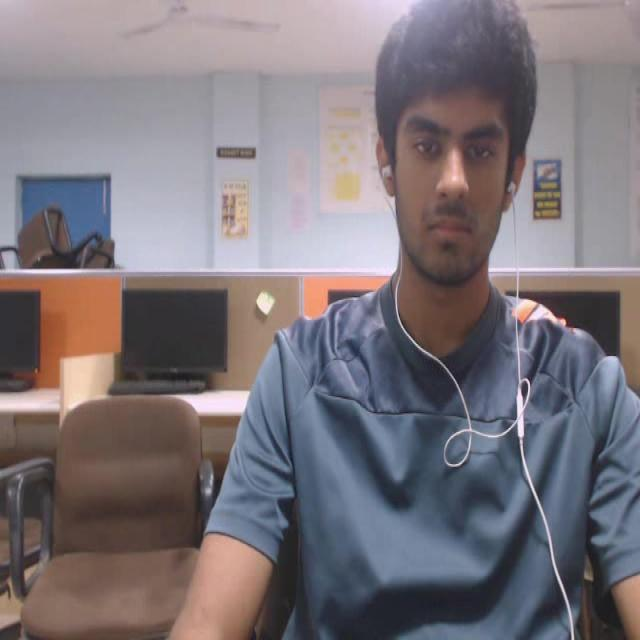Bored: (358, 0, 554, 302)
